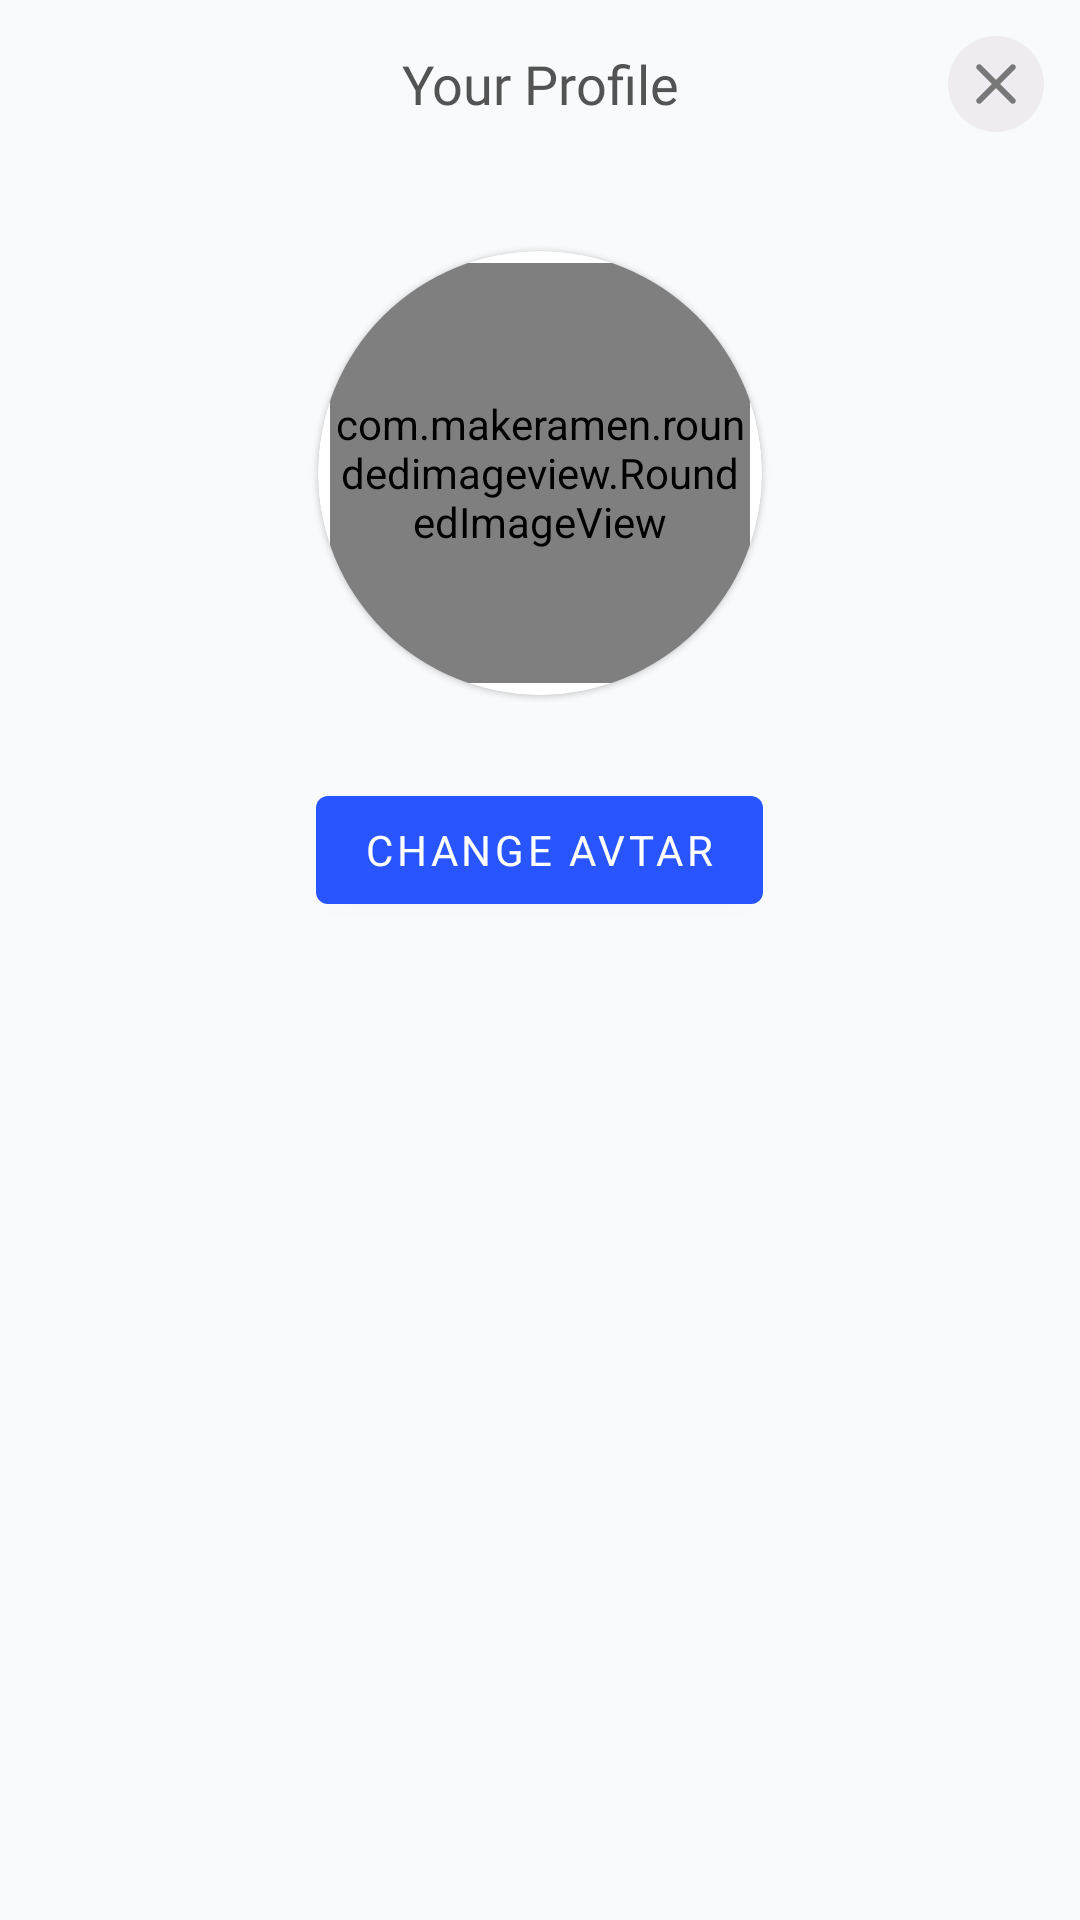

Where icons sit on this 1080w x 1920h app screen, as bbox(x1, y1, x2, y2):
close: bbox(948, 36, 1044, 132)
